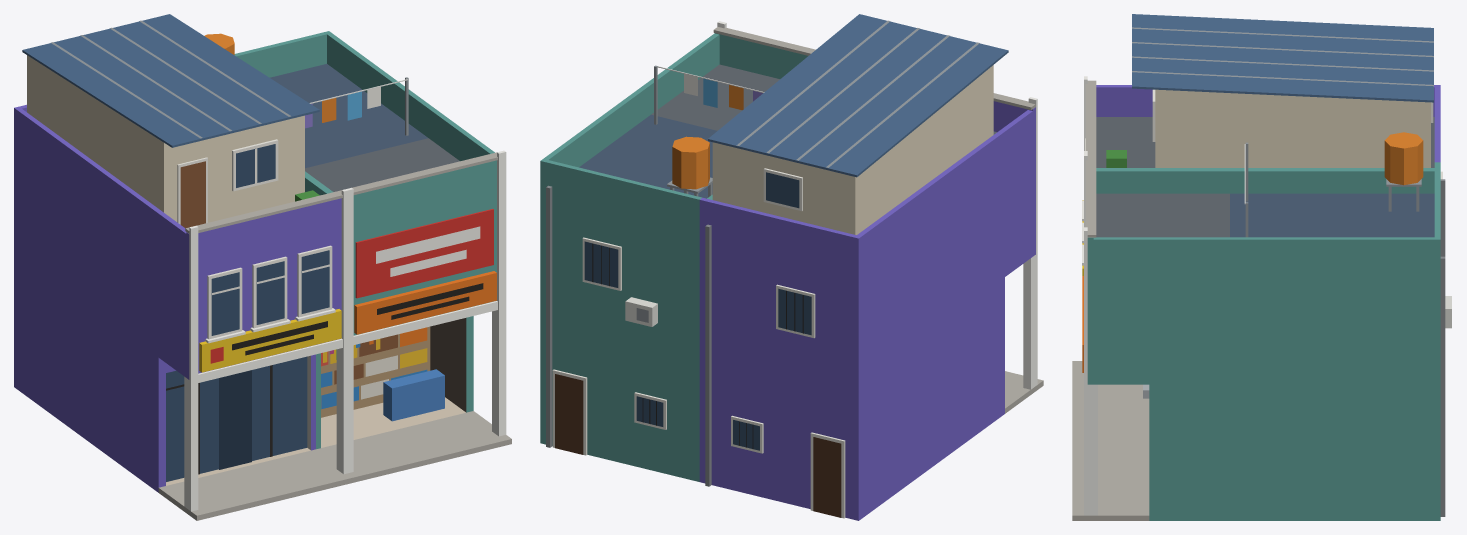
Rendered from ruko_11.glb.
The picture shows the model from 3 angles, left to right: view 1: azimuth 30°, elevation 25°; view 2: azimuth 150°, elevation 25°; view 3: azimuth 270°, elevation 25°; orthographic projection.
Visible parts, largest first — view 1: ruko_11; view 2: ruko_11; view 3: ruko_11.
Boxes of the visible parts, left/top/right/bottom form: ruko_11: left=14, top=14, right=511, bottom=520; ruko_11: left=540, top=14, right=1043, bottom=520; ruko_11: left=1072, top=14, right=1451, bottom=520.
Bounding box in the file's own units: 9.5 × 10.16 × 9.86.
